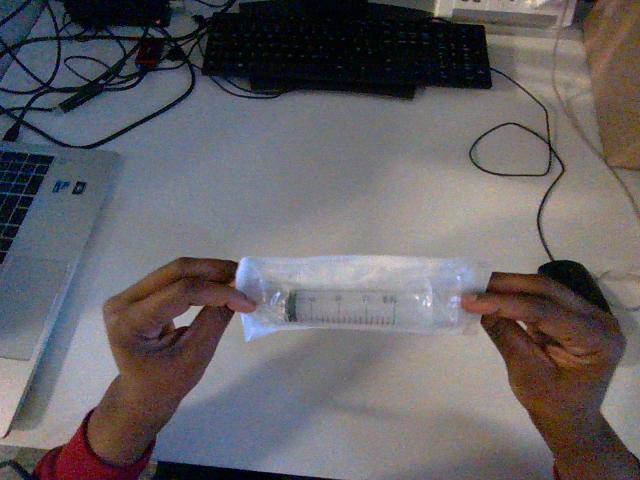syringe: (236, 256, 490, 340)
